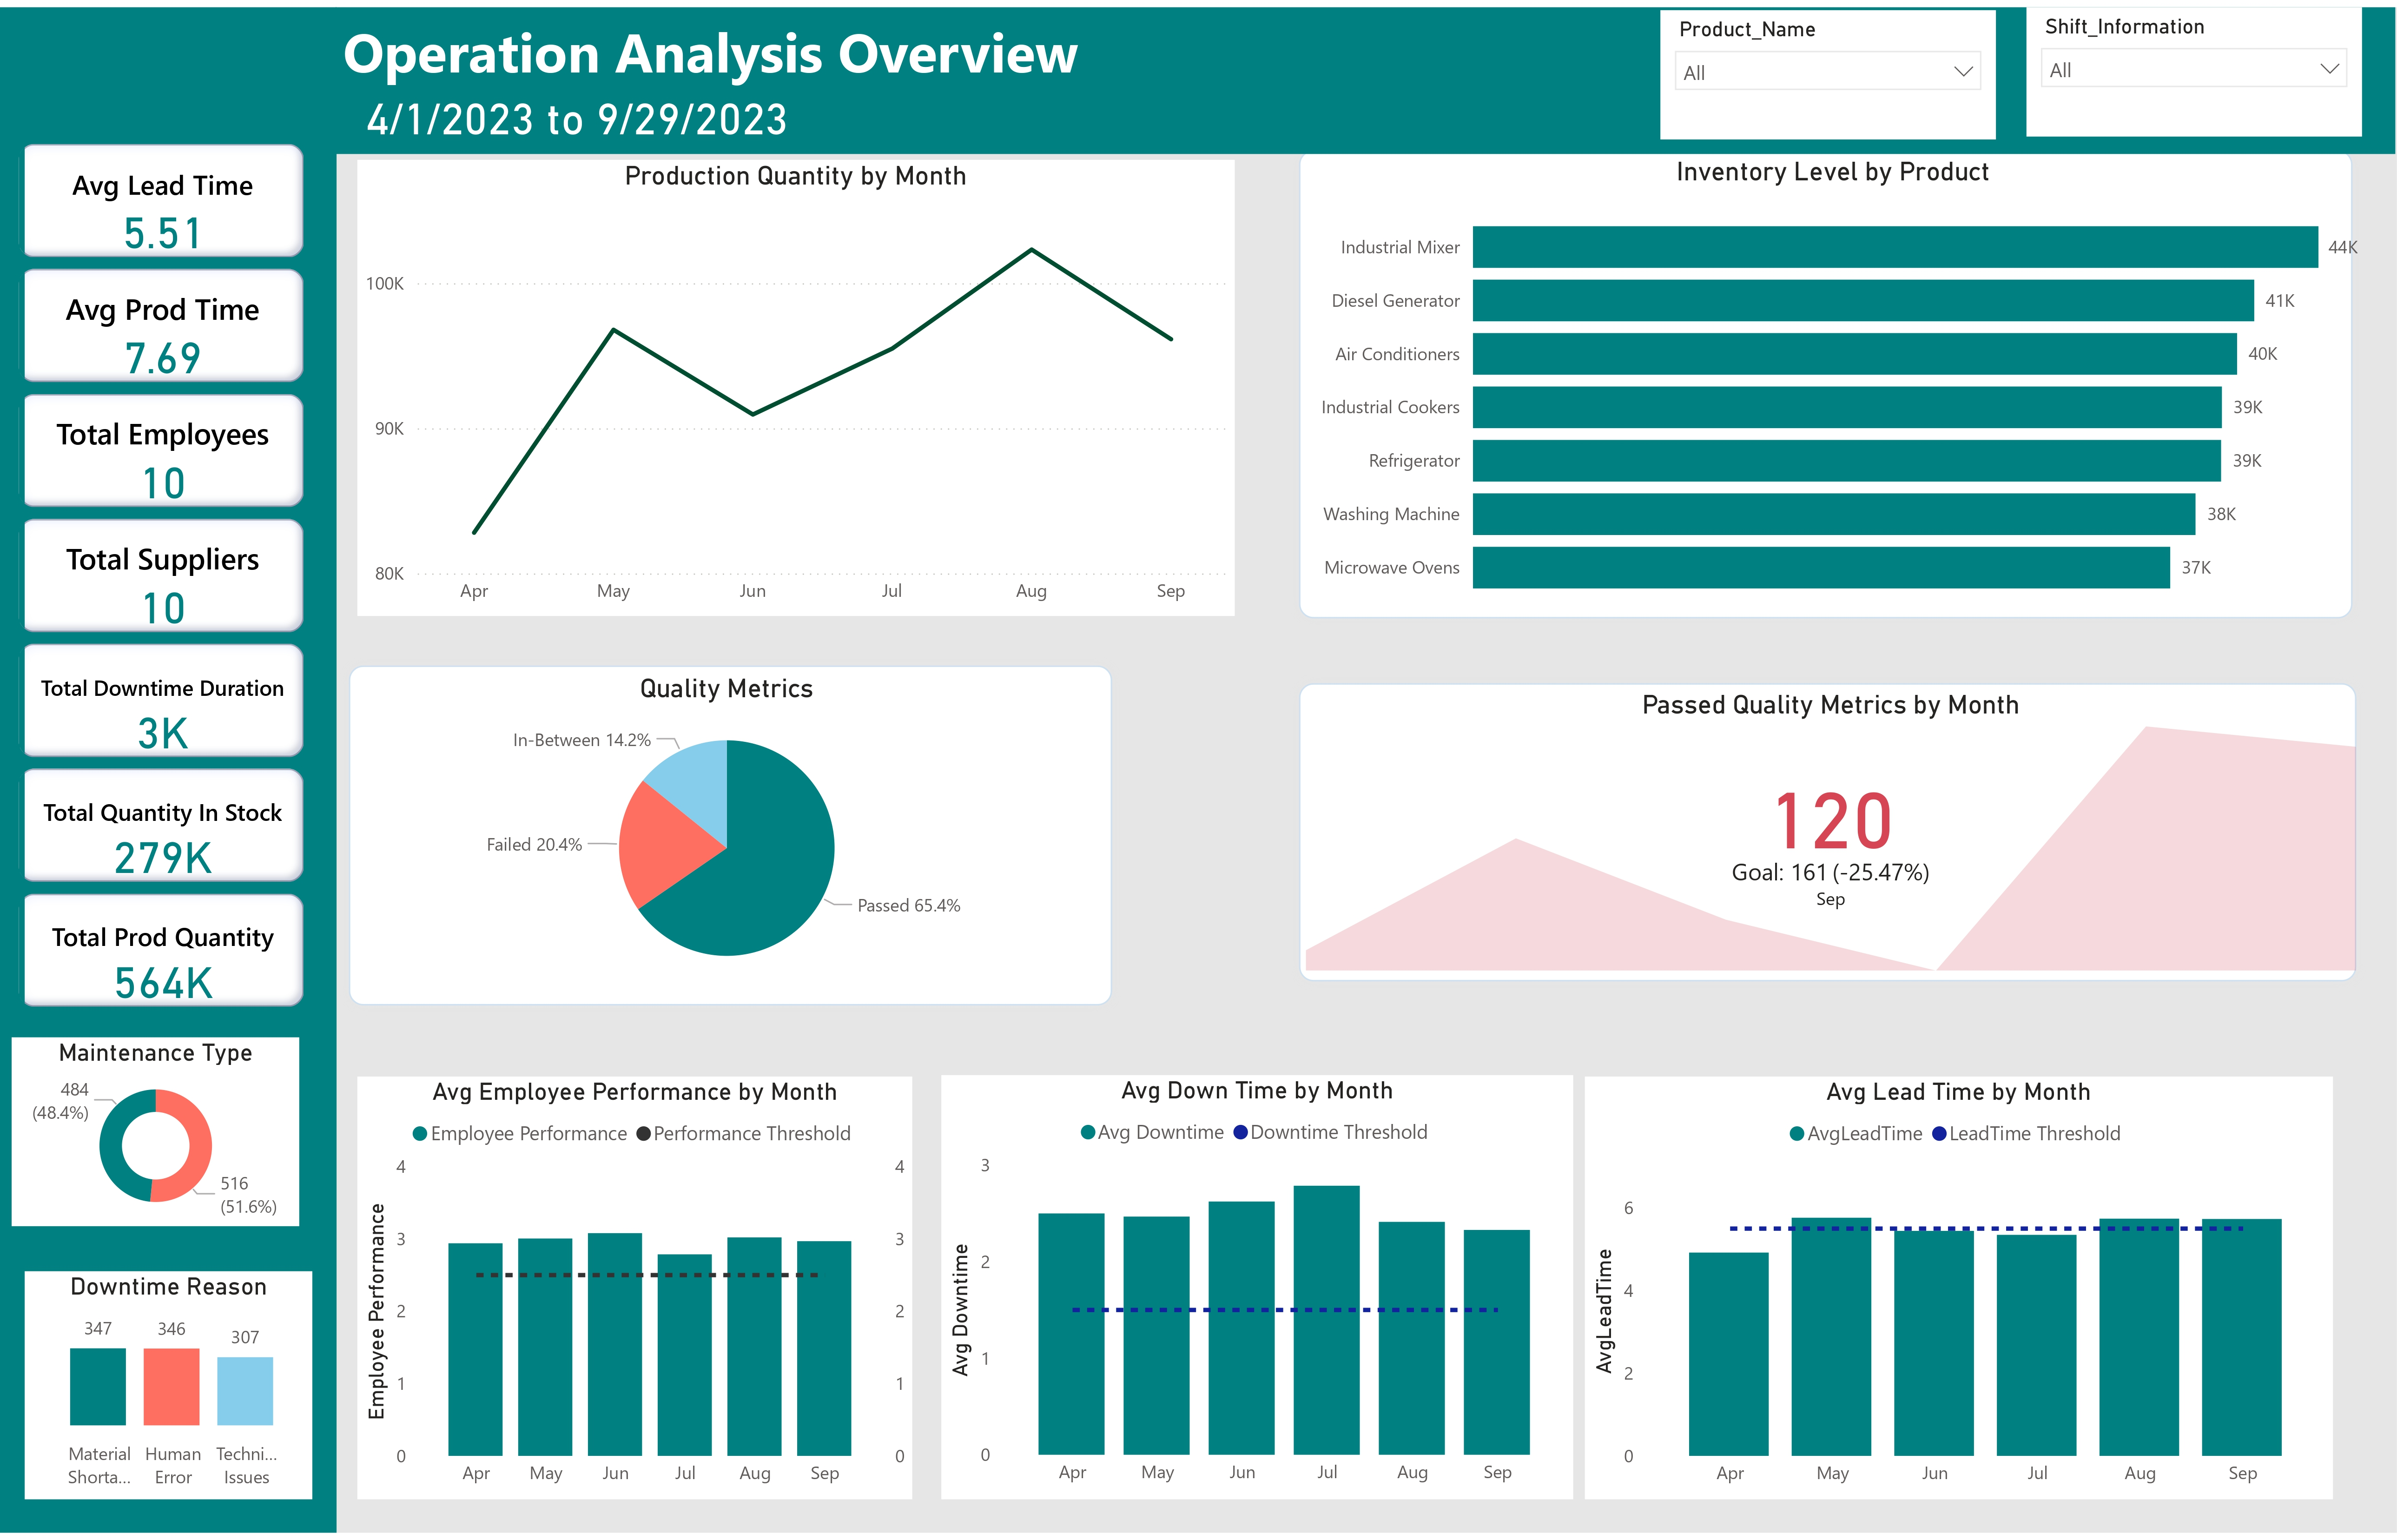

What the dashboard file says about the page in this screenshot:
{"tool":"powerbi","page":{"name":"Overview","canvas":[1650,1050],"ordinal":0},"visuals":[{"type":"shape","box":[231.7,445,541.7,250],"z":0},{"type":"shape","box":[885.7,90,741.4,338.6],"z":1000},{"type":"shape","box":[885.7,457.1,744.3,221.4],"z":2000},{"type":"shape","box":[231.5,0,1417.9,101.3],"z":3000},{"type":"shape","box":[0,0,231.7,1050.2],"z":4000},{"type":"textbox","box":[231.5,0,634.5,64.1],"z":5000},{"type":"card","fields":{"Values":["Measures Table.Date Range"]},"box":[231.5,47.5,332.8,53.7],"z":6000},{"type":"lineChart","title":"Production Quantity by Month","fields":{"Category":["Date Table.Month Name"],"Y":["Sum(Operations Data.Production_Quantity)"]},"box":[246,105.4,603.5,314.2],"z":7000},{"type":"clusteredBarChart","title":"Inventory Level by Product","fields":{"Y":["Sum(Operations Data.Quantity_in_Stock)"],"Category":["Product Data.Product_Name"]},"box":[896,102,732,318],"z":8000},{"type":"pieChart","title":"Quality Metrics","fields":{"Y":["Measures Table.Total"],"Category":["Operations Data.Quality_Metrics"]},"box":[246.7,458.3,506.7,220],"z":9000},{"type":"kpi","title":"Passed Quality Metrics by Month","fields":{"Goal":["Measures Table.Target"],"TrendLine":["Date Table.Month Name"],"Indicator":["Measures Table.PassedMetrics"]},"box":[894.3,468.6,732.9,198.6],"z":10000},{"type":"lineStackedColumnComboChart","title":"Avg Employee Performance by Month","fields":{"Y":["Measures Table.AverageRating"],"Category":["Date Table.Month Name"],"Y2":["Measures Table.Performance Threshold"]},"box":[246,735.8,382.4,291.4],"z":11000},{"type":"lineStackedColumnComboChart","title":"Avg Down Time by Month","fields":{"Category":["Date Table.Month Name"],"Y2":["Measures Table.Downtime Threshold"],"Y":["Measures Table.Avg Downtime"]},"box":[648.3,735,435,291.7],"z":12000},{"type":"lineStackedColumnComboChart","title":"Avg Lead Time by Month","fields":{"Category":["Date Table.Month Name"],"Y":["Measures Table.AvgLeadTime"],"Y2":["Measures Table.LeadTime Threshold"]},"box":[1091.3,735.8,514.7,291.4],"z":13000},{"type":"columnChart","title":"Downtime Reason","fields":{"Category":["Operations Data.Downtime_Reason"],"Y":["Measures Table.Total"]},"box":[16.5,870.2,198.4,157.1],"z":14000},{"type":"donutChart","title":"Maintenance Type","fields":{"Y":["Measures Table.Total"],"Category":["Operations Data.Maintenance_Type"]},"box":[8.3,709,198.4,130.2],"z":15000},{"type":"slicer","fields":{"Values":["Product Data.Product_Name"]},"box":[1143,2.1,231.5,88.9],"z":16000},{"type":"slicer","fields":{"Values":["Employee Data.Shift_Information"]},"box":[1395.2,0,231.5,88.9],"z":17000},{"type":"cardVisual","fields":{"Data":["Measures Table.AvgLeadTime","Measures Table.AvgProdTime","Measures Table.Total Emp","Measures Table.Total Suppliers","Measures Table.Total Downtime Duration","Measures Table.TotalQuantityInStock","Measures Table.Total Production Quantity"]},"box":[8.3,88.9,206.7,605.6],"z":18000}]}

Visuals, with their boxes in screenshot pixels (x1, y1, x2, y2), scaled from the page's 1650x1050 canvas onto the 2397x1540 screenshot:
shape: select_region(337, 653, 1123, 1019)
shape: select_region(1287, 132, 2364, 628)
shape: select_region(1287, 670, 2368, 995)
shape: select_region(337, 0, 2396, 149)
shape: select_region(0, 0, 337, 1540)
textbox: select_region(337, 0, 1258, 94)
card - Measures Table.Date Range: select_region(337, 70, 820, 148)
"Production Quantity by Month" lineChart: select_region(357, 155, 1234, 615)
"Inventory Level by Product" clusteredBarChart: select_region(1301, 150, 2365, 616)
"Quality Metrics" pieChart: select_region(358, 672, 1095, 995)
"Passed Quality Metrics by Month" kpi: select_region(1299, 687, 2364, 978)
"Avg Employee Performance by Month" lineStackedColumnComboChart: select_region(357, 1079, 913, 1507)
"Avg Down Time by Month" lineStackedColumnComboChart: select_region(942, 1078, 1574, 1506)
"Avg Lead Time by Month" lineStackedColumnComboChart: select_region(1585, 1079, 2333, 1507)
"Downtime Reason" columnChart: select_region(24, 1276, 312, 1507)
"Maintenance Type" donutChart: select_region(12, 1040, 300, 1231)
slicer - Product Data.Product_Name: select_region(1660, 3, 1997, 133)
slicer - Employee Data.Shift_Information: select_region(2027, 0, 2363, 131)
cardVisual - Measures Table.AvgLeadTime x Measures Table.AvgProdTime: select_region(12, 131, 312, 1018)
